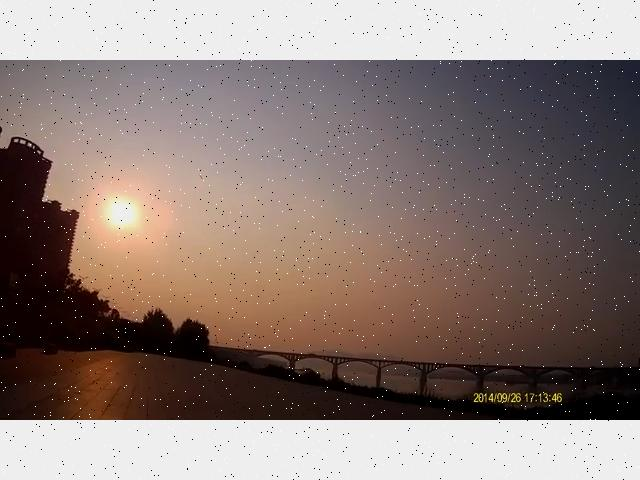Anti-Drone: (195, 172, 213, 186)
